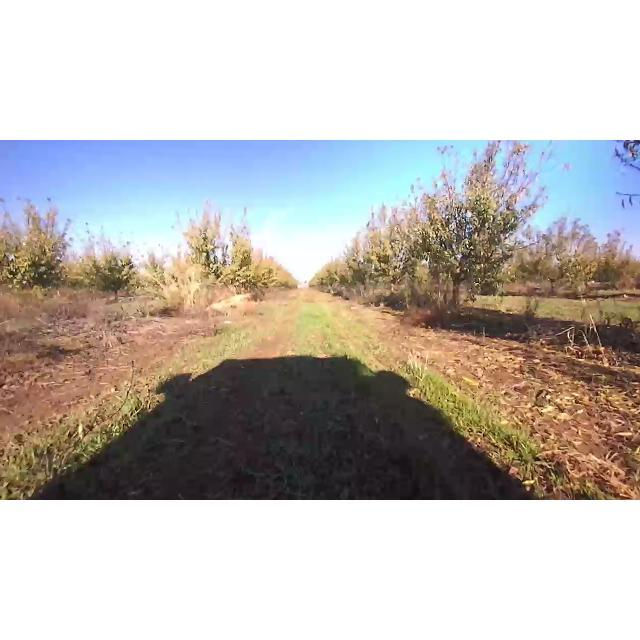direk: (398, 142, 568, 332), (167, 188, 266, 308), (350, 194, 442, 320)
